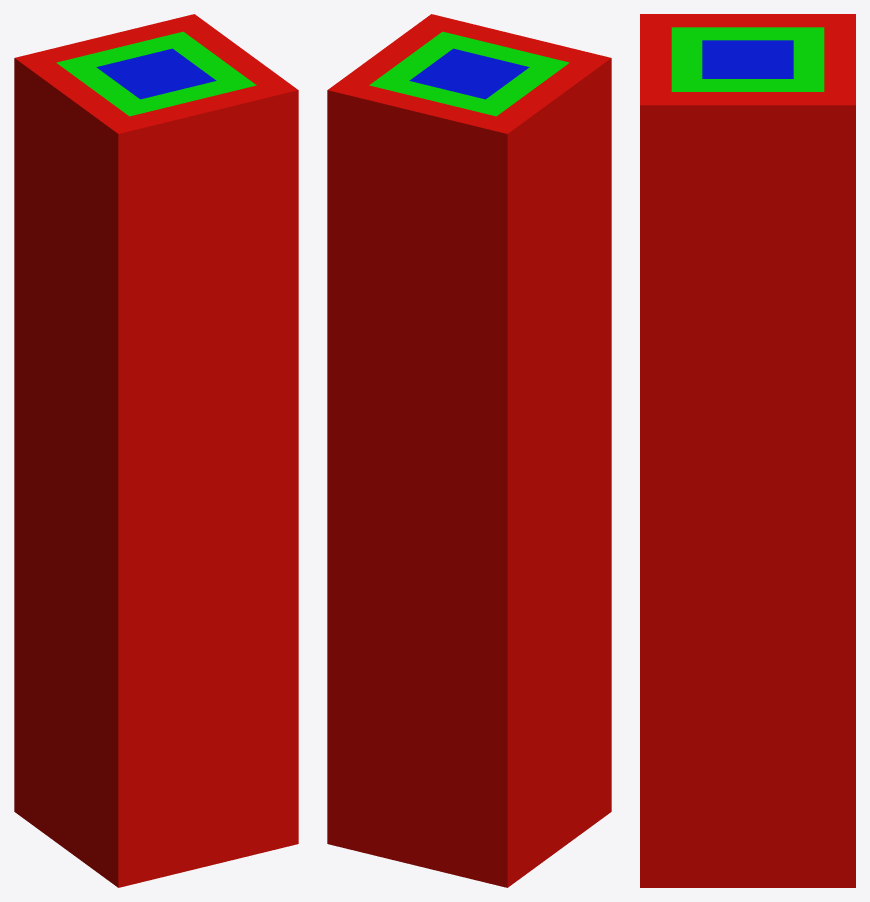
The model's file is block_template.fbx.
The picture shows the model from 3 angles, left to right: view 1: azimuth 30°, elevation 25°; view 2: azimuth 150°, elevation 25°; view 3: azimuth 270°, elevation 25°; orthographic projection. The views are drawn at different scales.
Parts seen in each view (by area): view 1: block template; view 2: block template; view 3: block template.
Part boxes in pixels (bbox=[...]): block template: bbox=[14, 14, 298, 887]; block template: bbox=[327, 14, 611, 887]; block template: bbox=[640, 14, 855, 887].
Size of the model in its own units: 100 by 400 by 100.
